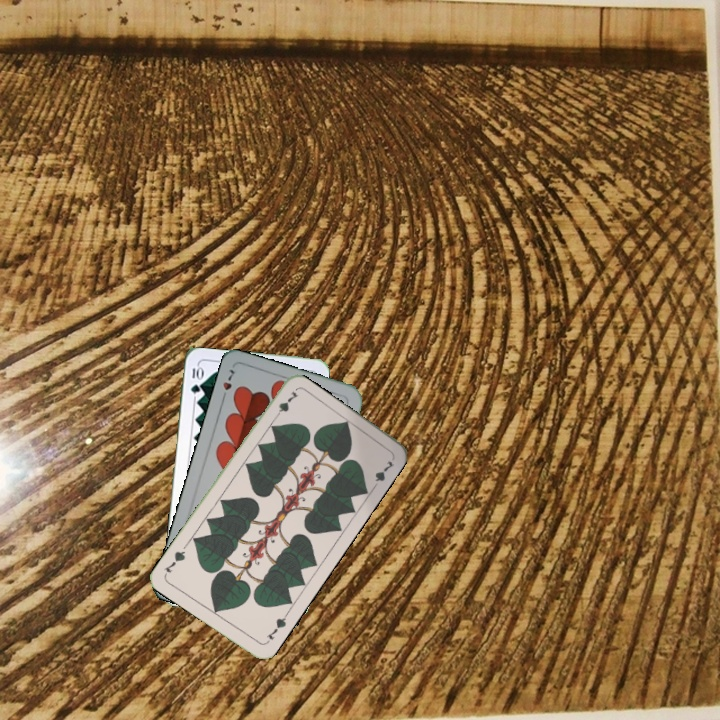G10: (187, 362, 204, 396)
G7: (269, 387, 300, 423), (262, 610, 290, 646)
H7: (218, 365, 237, 404)
